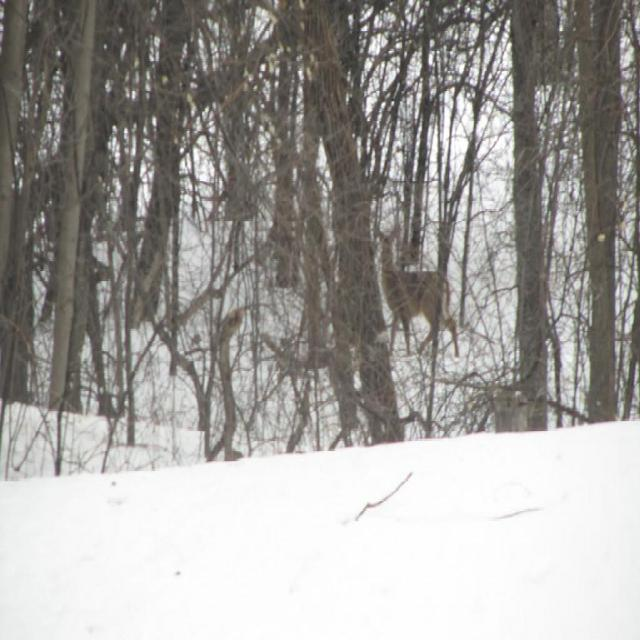Deer: (375, 196, 460, 361)
